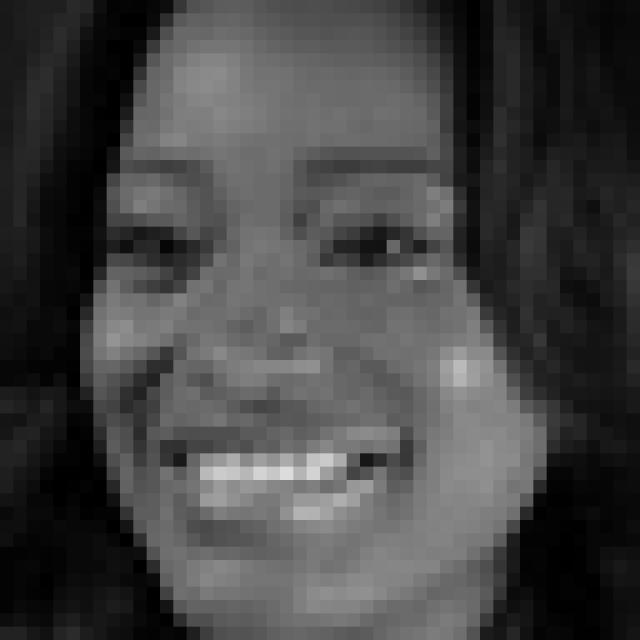happy: (100, 144, 453, 553)
